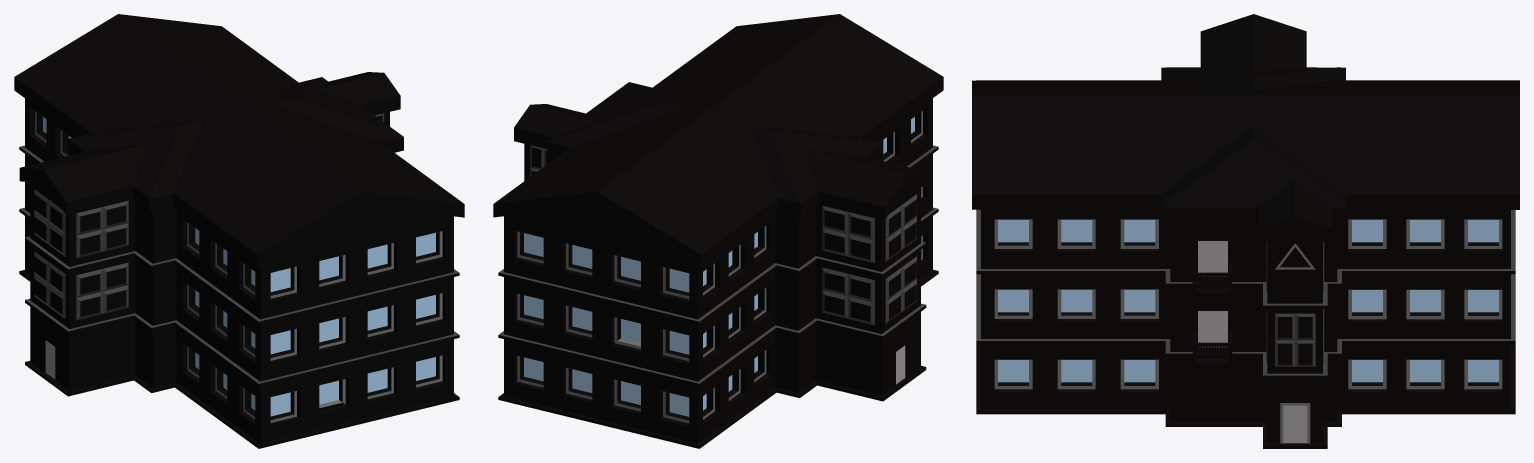
Rendered from bldg_school.fbx.
The picture shows the model from 3 angles, left to right: view 1: azimuth 30°, elevation 25°; view 2: azimuth 150°, elevation 25°; view 3: azimuth 270°, elevation 25°; orthographic projection. The views are drawn at different scales.
Parts seen in each view (by area): view 1: building_001; view 2: building_001; view 3: building_001.
Boxes of the visible parts, x1=… form: building_001: x1=14, y1=14, x2=464, y2=448; building_001: x1=493, y1=14, x2=943, y2=448; building_001: x1=972, y1=14, x2=1519, y2=448.
Size of the model in its own units: 15.56 by 9.68 by 18.21.
